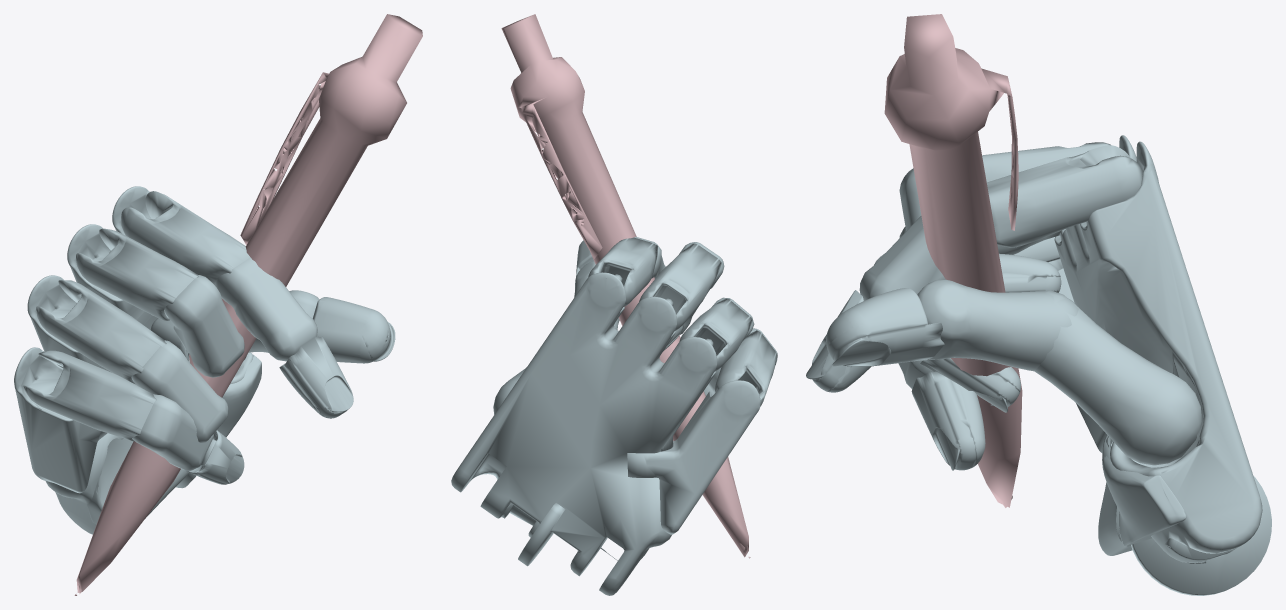
The picture shows the model from 3 angles, left to right: view 1: azimuth 30°, elevation 25°; view 2: azimuth 150°, elevation 25°; view 3: azimuth 270°, elevation 25°; orthographic projection. The views are drawn at different scales.
Visible parts, largest first — view 1: world; view 2: world; view 3: world.
Boxes of the visible parts, <box> form: world: <box>14,14,422,595</box>; world: <box>451,14,777,595</box>; world: <box>806,14,1271,595</box>.
Size of the model in its own units: 0.1393 by 0.2041 by 0.1263.
